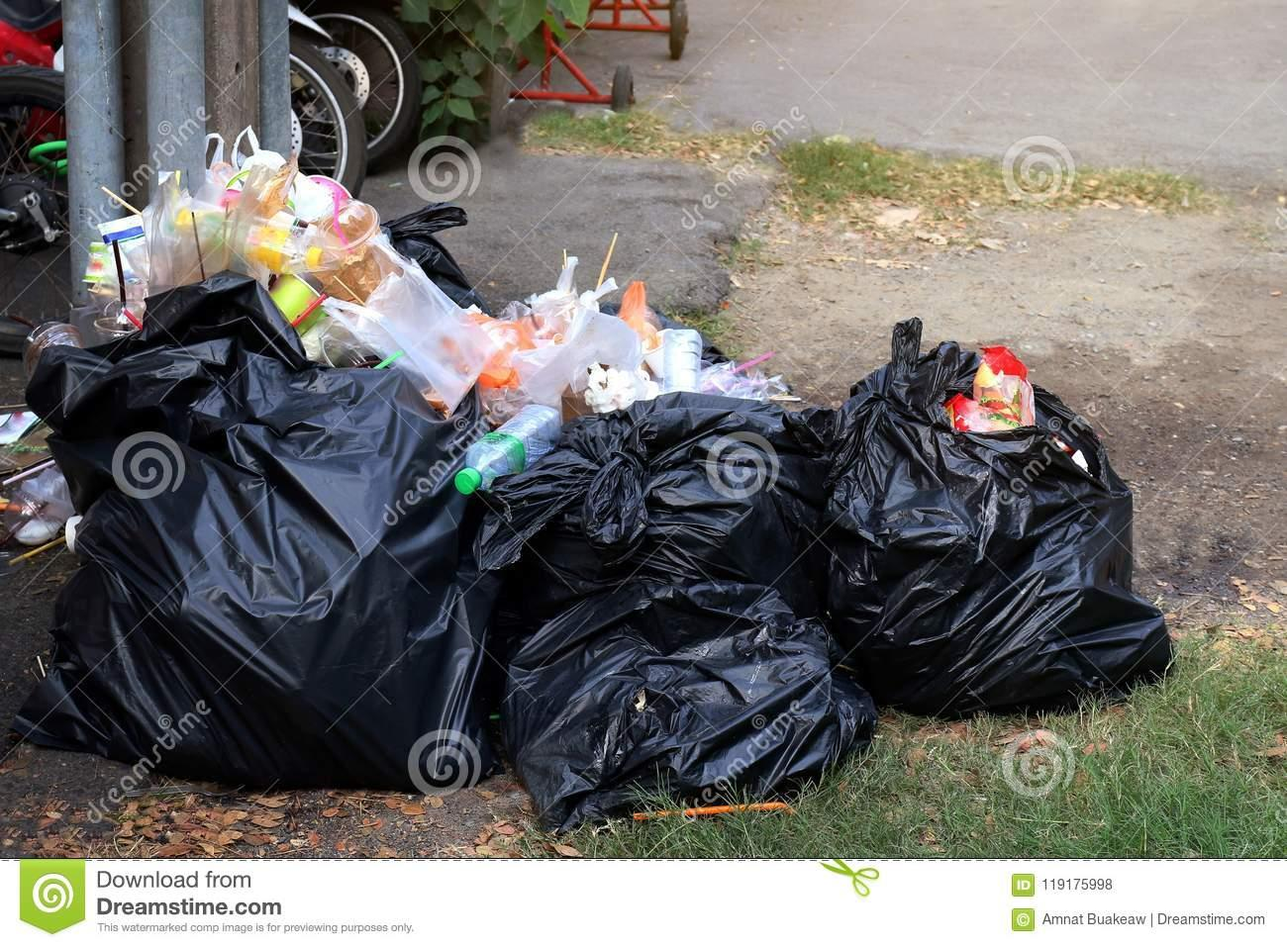garbage: (16, 108, 1238, 817)
